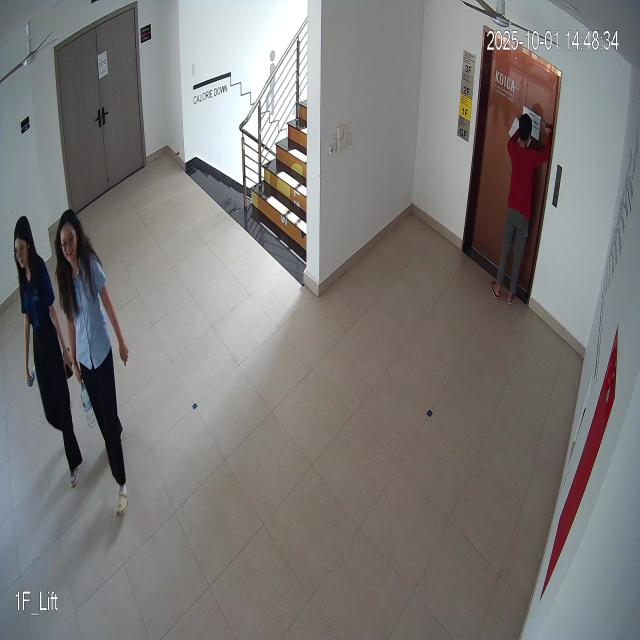face: (53, 207, 83, 268), (10, 215, 34, 281)
